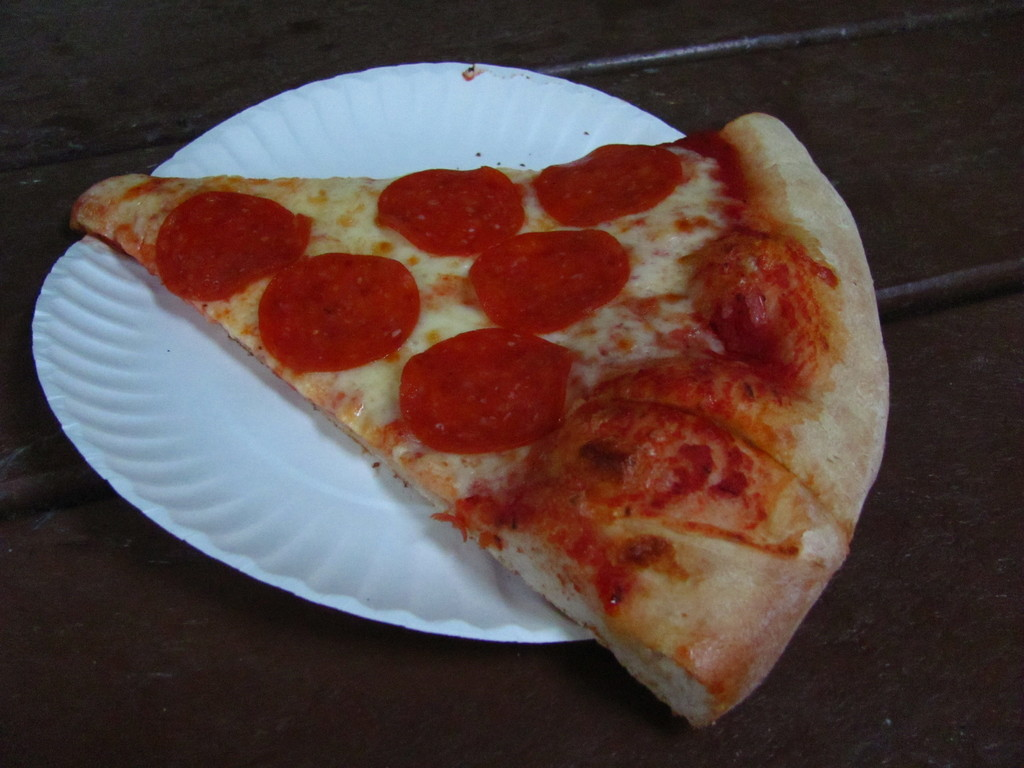Pizza: (64, 104, 890, 727)
